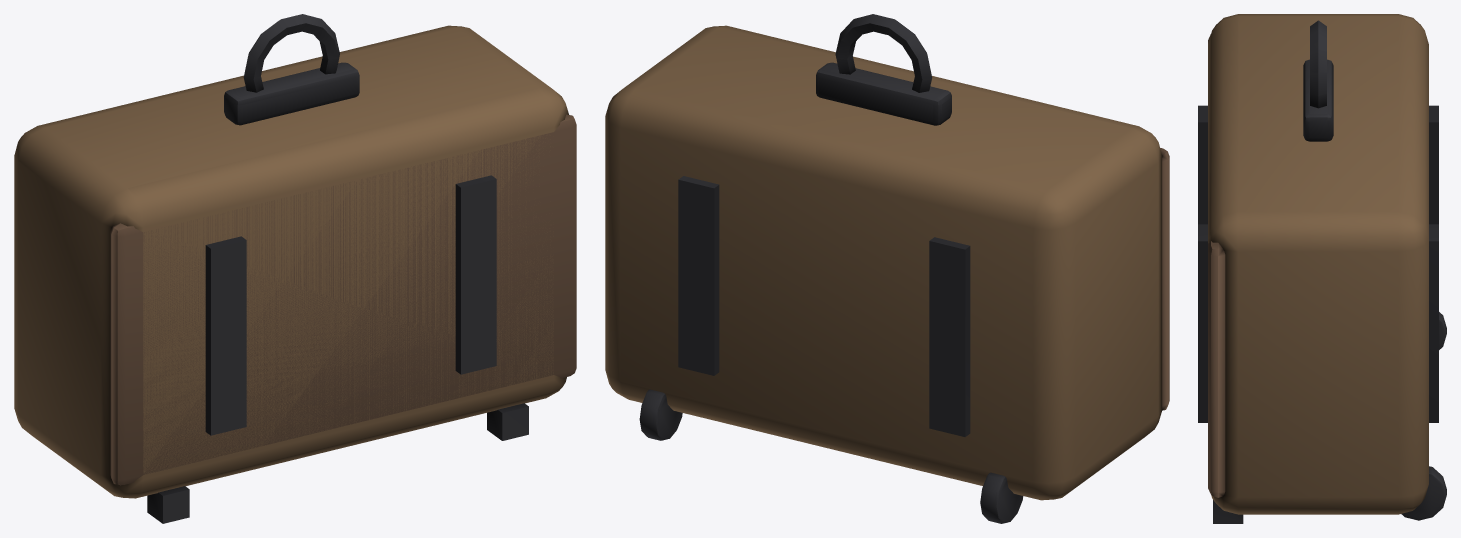
The model's file is suitcase.glb.
The picture shows the model from 3 angles, left to right: view 1: azimuth 30°, elevation 25°; view 2: azimuth 150°, elevation 25°; view 3: azimuth 270°, elevation 25°; orthographic projection. The views are drawn at different scales.
Visible parts, largest first — view 1: suitcase; view 2: suitcase; view 3: suitcase.
Boxes of the visible parts, x1,y1,x2,y2 form: suitcase: [14, 14, 576, 523]; suitcase: [605, 14, 1169, 523]; suitcase: [1198, 14, 1446, 523].
Bounding box in the file's own units: 0.52 × 0.4526 × 0.248.
